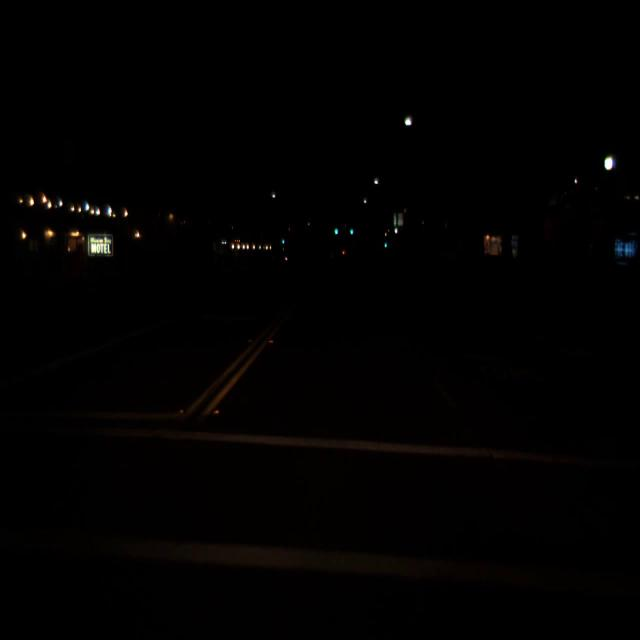go: (335, 230, 337, 233), (384, 243, 386, 246), (351, 231, 353, 233), (282, 241, 284, 243)
go traffic light: (334, 223, 338, 236), (350, 227, 354, 234), (281, 237, 285, 244)
